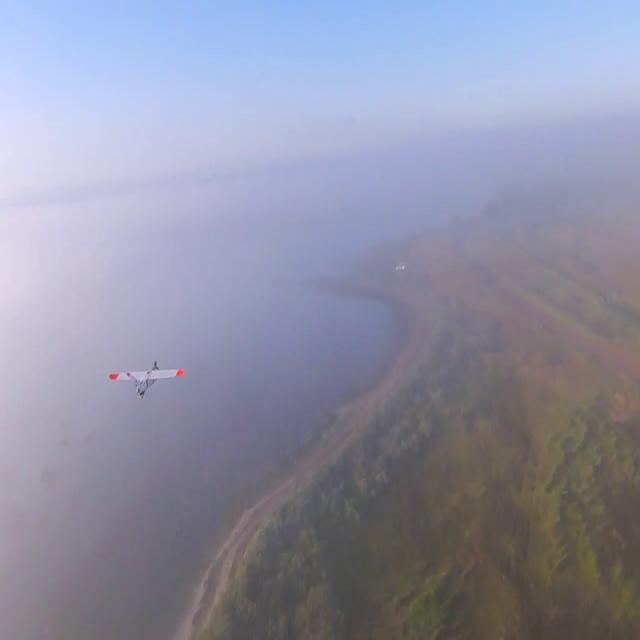iha: (144, 359, 150, 399)
